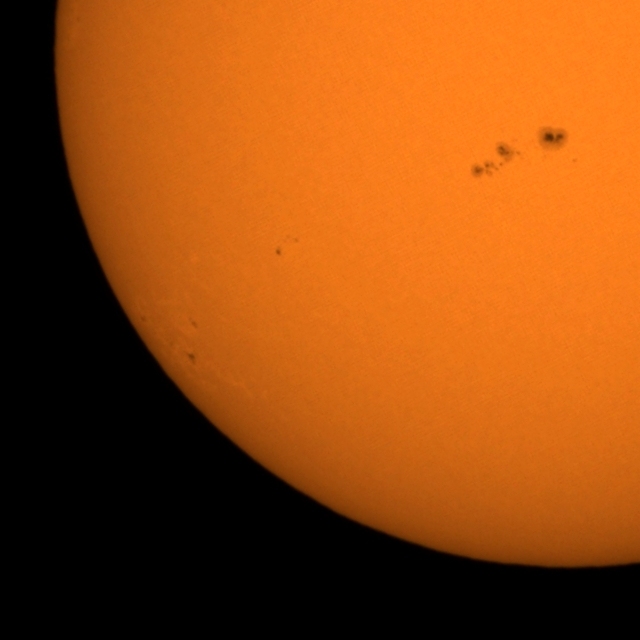sunspot: (470, 141, 518, 181), (537, 126, 569, 155), (274, 235, 300, 256), (186, 351, 197, 366), (188, 317, 198, 330), (274, 247, 283, 257)
